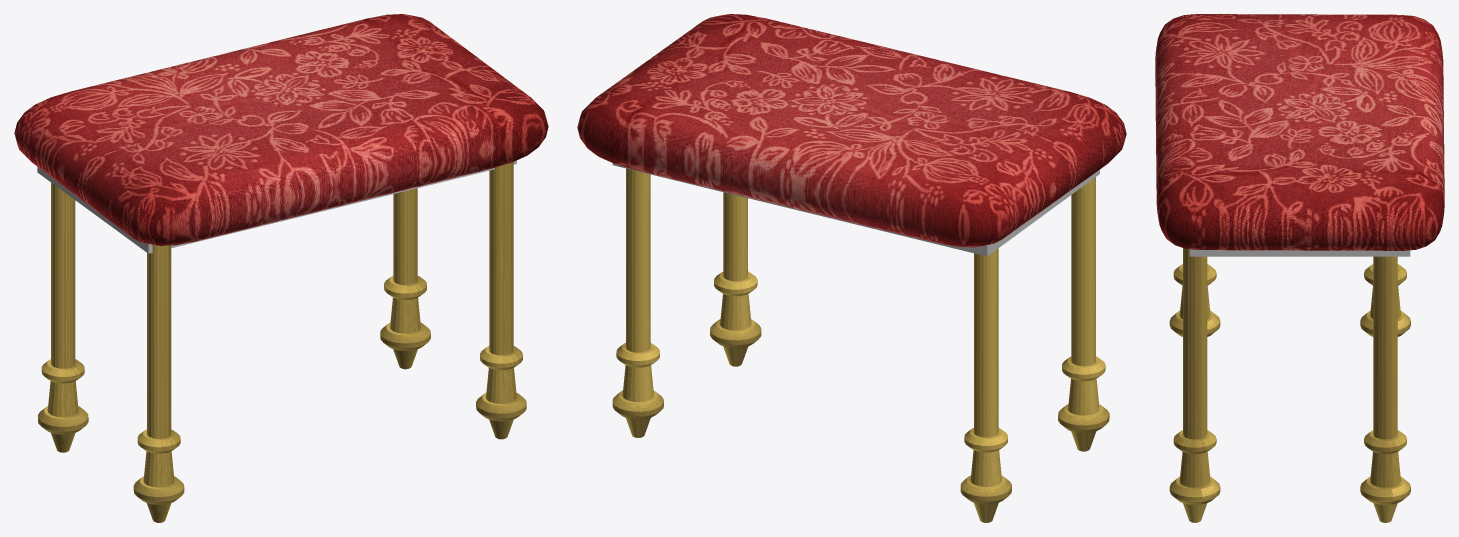
File: the seat next to the bed.fbx
The picture shows the model from 3 angles, left to right: view 1: azimuth 30°, elevation 25°; view 2: azimuth 150°, elevation 25°; view 3: azimuth 270°, elevation 25°; orthographic projection. The views are drawn at different scales.
Parts seen in each view (by area): view 1: polySurface573, polySurface574, polySurface577, polySurface575, polySurface576, polySurface572; view 2: polySurface573, polySurface575, polySurface576, polySurface574, polySurface577, polySurface572; view 3: polySurface573, polySurface577, polySurface576, polySurface572, polySurface575, polySurface574.
Boxes of the visible parts, box(x1,y1,x2,y2) form: polySurface573: box(14, 14, 548, 245); polySurface574: box(133, 245, 184, 522); polySurface577: box(476, 162, 526, 439); polySurface575: box(38, 182, 88, 452); polySurface576: box(380, 188, 430, 369); polySurface572: box(37, 160, 516, 253); polySurface573: box(577, 14, 1126, 247); polySurface575: box(960, 248, 1011, 522); polySurface576: box(612, 168, 663, 437); polySurface574: box(1058, 177, 1109, 451); polySurface577: box(710, 192, 761, 366); polySurface572: box(612, 163, 1099, 256); polySurface573: box(1155, 14, 1444, 250); polySurface577: box(1169, 248, 1220, 522); polySurface576: box(1360, 256, 1410, 522); polySurface572: box(1189, 249, 1410, 256); polySurface575: box(1360, 264, 1410, 336); polySurface574: box(1169, 264, 1220, 336).
Bounding box in the file's own units: 120 × 92.63 × 71.77.
